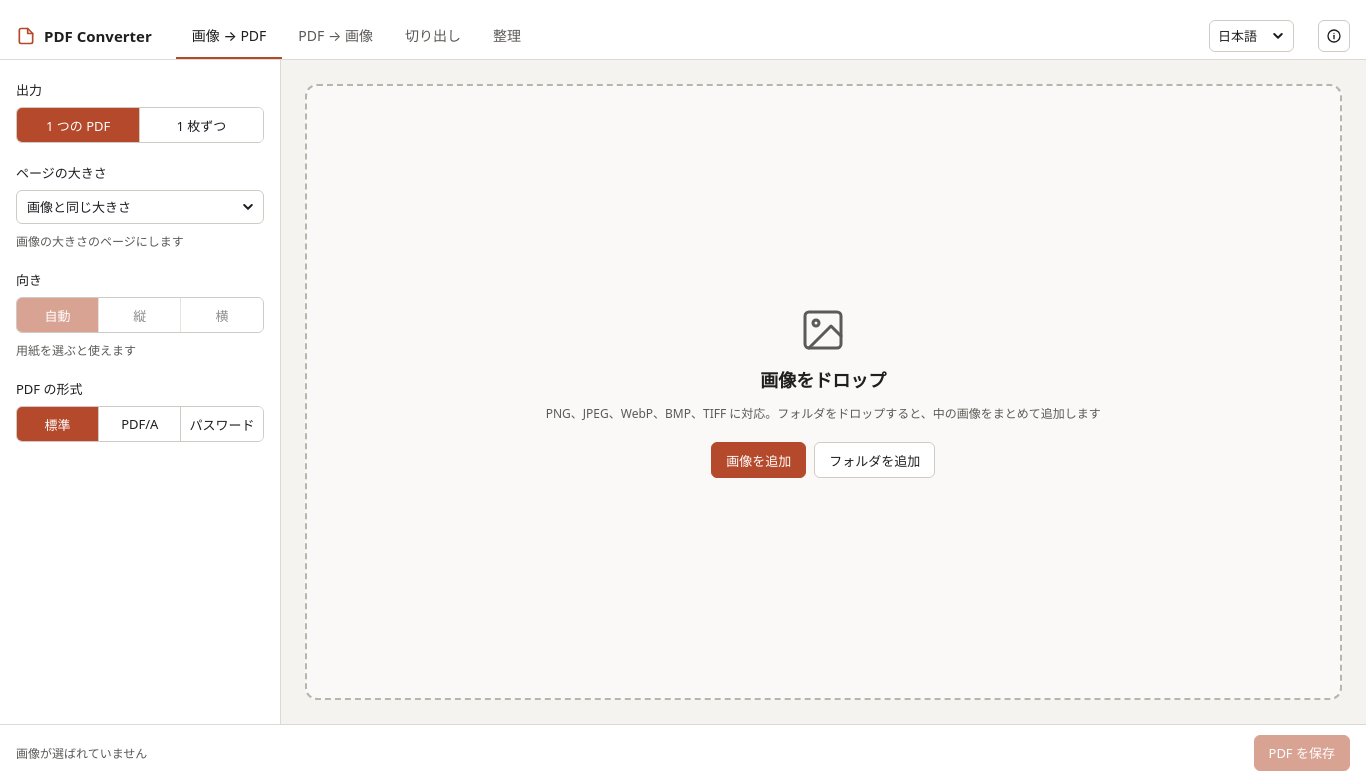
Scenario: the organize tab: opening it › shows the drop zone with its two buttons, and the settings of one PDF without the breaks
The width and height of the screenshot is (1366, 780).
Click the tab "整理" at x=507, y=36, box [477, 12, 537, 59]
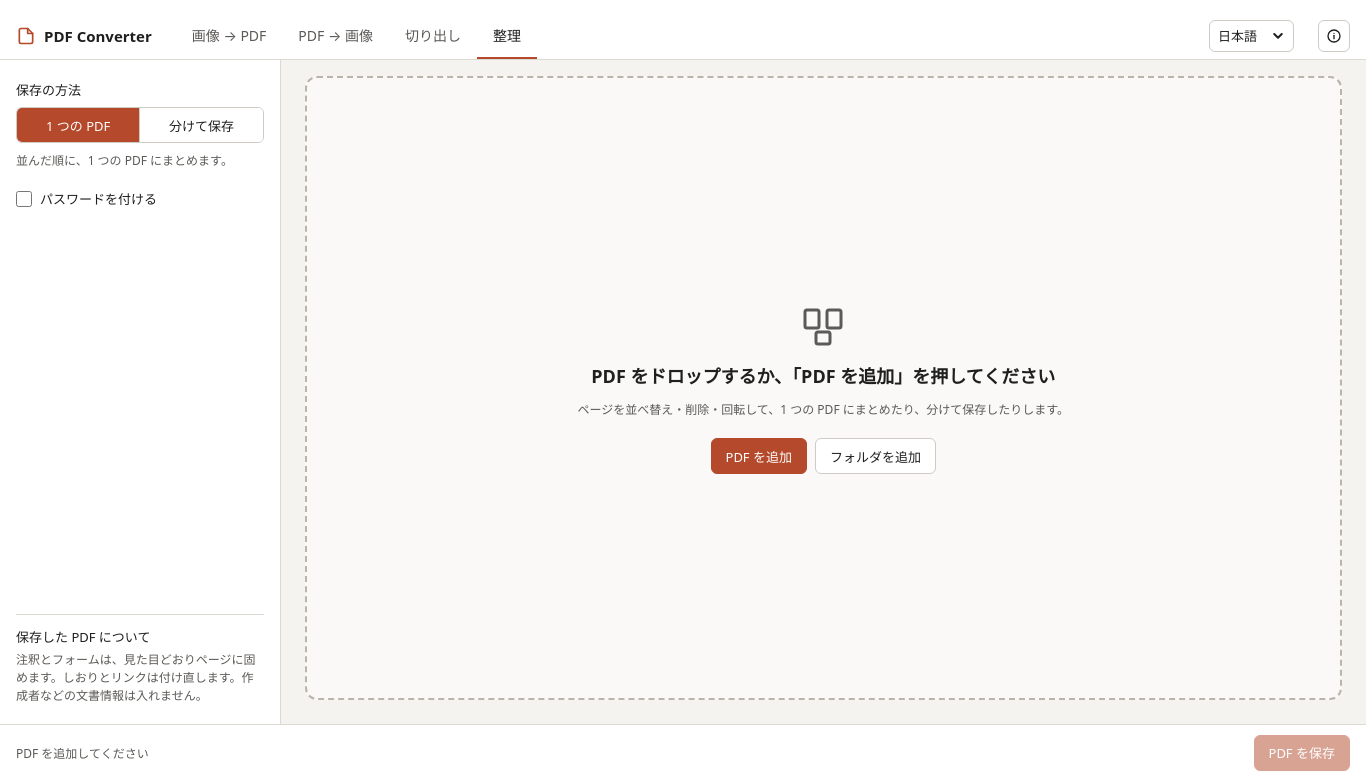
expect the button "PDF を追加" is shown: met, box [710, 438, 807, 474]
expect the checkbox labelled "パスワードを付ける" is not checked: met, box [16, 191, 32, 207]
expect the text "保存した PDF について" is shown: met, box [16, 628, 150, 646]
